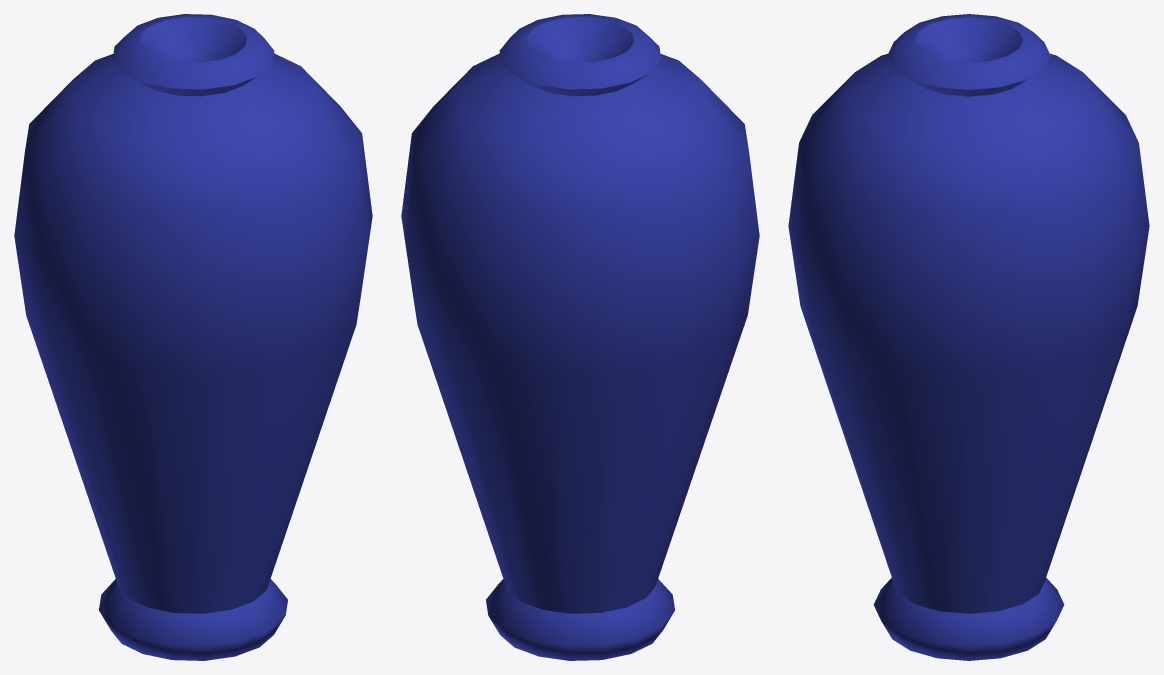
The model's file is vaso2.fbx.
3 renders of one model, left to right at view 1: azimuth 30°, elevation 25°; view 2: azimuth 150°, elevation 25°; view 3: azimuth 270°, elevation 25°, orthographic.
Parts seen in each view (by area): view 1: vaso_hunit1; view 2: vaso_hunit1; view 3: vaso_hunit1.
Part boxes in pixels (x1=…): vaso_hunit1: x1=14, y1=14, x2=372, y2=660; vaso_hunit1: x1=401, y1=14, x2=759, y2=660; vaso_hunit1: x1=788, y1=14, x2=1149, y2=660.
Bounding box in the file's own units: 0.4913 × 0.8794 × 0.4913.
